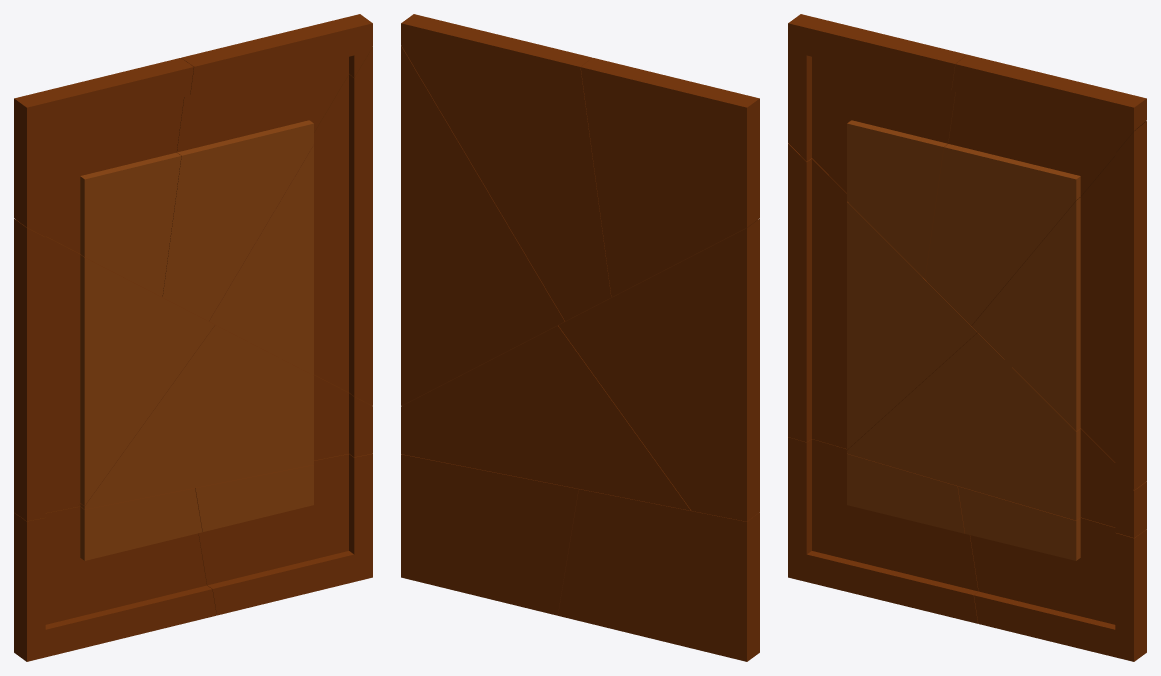
Rendered from Broken Vanity Door.fbx.
3 views of the same model, side by side, from view 1: azimuth 30°, elevation 25°; view 2: azimuth 150°, elevation 25°; view 3: azimuth 330°, elevation 25° (orthographic).
Parts seen in each view (by area): view 1: Vanity Bronken_cell.019_cell.002_cell.001_cell, Vanity Bronken_cell.019_cell.002_cell_cell_cell.001, Vanity Bronken_cell.019_cell.002_cell_cell_cell, Vanity Bronken_cell.019_cell.002_cell_cell.001, Vanity Bronken_cell.019_cell.002_cell.001_cell.001, Vanity Bronken_cell.019_cell_cell.001, Vanity Bronken_cell.019_cell_cell; view 2: Vanity Bronken_cell.019_cell.002_cell.001_cell, Vanity Bronken_cell.019_cell.002_cell_cell_cell.001, Vanity Bronken_cell.019_cell.002_cell_cell_cell, Vanity Bronken_cell.019_cell.002_cell_cell.001, Vanity Bronken_cell.019_cell.002_cell.001_cell.001, Vanity Bronken_cell.019_cell_cell.001, Vanity Bronken_cell.019_cell_cell; view 3: Vanity Bronken_cell.019_cell.002_cell_cell.001, Vanity Bronken_cell.019_cell.002_cell_cell_cell.001, Vanity Bronken_cell.019_cell.002_cell.001_cell, Vanity Bronken_cell.019_cell.002_cell_cell_cell, Vanity Bronken_cell.019_cell.002_cell.001_cell.001, Vanity Bronken_cell.019_cell_cell.001, Vanity Bronken_cell.019_cell_cell.
Part boxes in pixels (left/top/right/bottom): Vanity Bronken_cell.019_cell.002_cell.001_cell: left=14, top=219, right=214, bottom=521; Vanity Bronken_cell.019_cell.002_cell_cell_cell.001: left=162, top=14, right=372, bottom=321; Vanity Bronken_cell.019_cell.002_cell_cell_cell: left=14, top=58, right=193, bottom=297; Vanity Bronken_cell.019_cell.002_cell_cell.001: left=209, top=47, right=372, bottom=405; Vanity Bronken_cell.019_cell.002_cell.001_cell.001: left=77, top=324, right=372, bottom=509; Vanity Bronken_cell.019_cell_cell.001: left=14, top=488, right=216, bottom=661; Vanity Bronken_cell.019_cell_cell: left=195, top=453, right=372, bottom=615; Vanity Bronken_cell.019_cell.002_cell.001_cell: left=558, top=218, right=759, bottom=521; Vanity Bronken_cell.019_cell.002_cell_cell_cell.001: left=401, top=14, right=611, bottom=321; Vanity Bronken_cell.019_cell.002_cell_cell_cell: left=580, top=58, right=759, bottom=297; Vanity Bronken_cell.019_cell.002_cell_cell.001: left=401, top=46, right=564, bottom=405; Vanity Bronken_cell.019_cell.002_cell.001_cell.001: left=401, top=325, right=690, bottom=510; Vanity Bronken_cell.019_cell_cell.001: left=558, top=489, right=759, bottom=661; Vanity Bronken_cell.019_cell_cell: left=401, top=454, right=578, bottom=615; Vanity Bronken_cell.019_cell.002_cell_cell.001: left=971, top=121, right=1146, bottom=490; Vanity Bronken_cell.019_cell.002_cell_cell_cell.001: left=925, top=54, right=1146, bottom=325; Vanity Bronken_cell.019_cell.002_cell.001_cell: left=788, top=143, right=977, bottom=449; Vanity Bronken_cell.019_cell.002_cell_cell_cell: left=788, top=14, right=966, bottom=278; Vanity Bronken_cell.019_cell.002_cell.001_cell.001: left=847, top=333, right=1146, bottom=537; Vanity Bronken_cell.019_cell_cell.001: left=788, top=437, right=978, bottom=623; Vanity Bronken_cell.019_cell_cell: left=958, top=486, right=1146, bottom=661.
Size of the model in its own units: 242 by 371 by 15.4.
